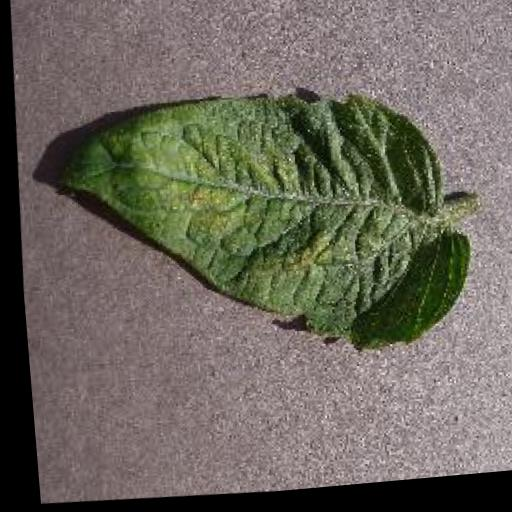Spider Mites: (39, 75, 477, 379)
